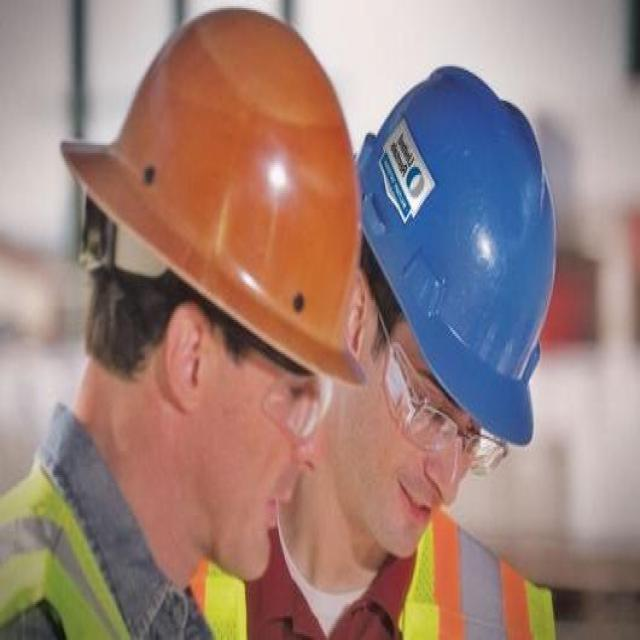Reflective-Jacket: (182, 503, 569, 638), (1, 455, 260, 640)
Safety-Helmet: (59, 8, 371, 384), (356, 62, 562, 449)
